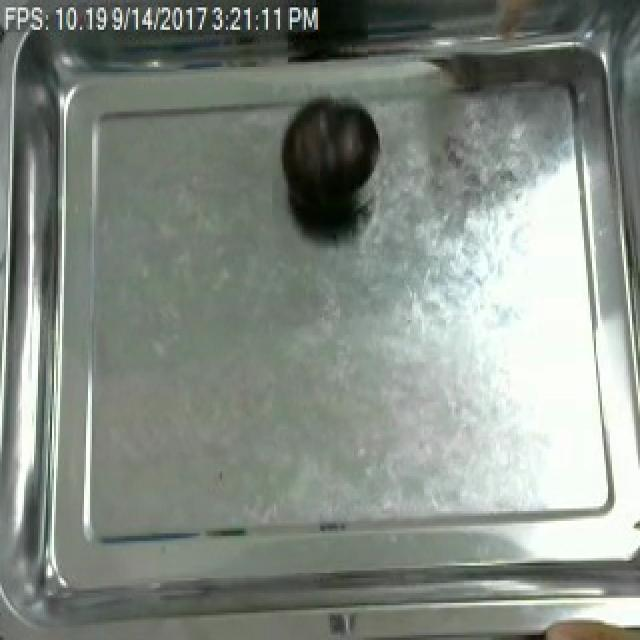Fruit: (276, 97, 384, 233)
